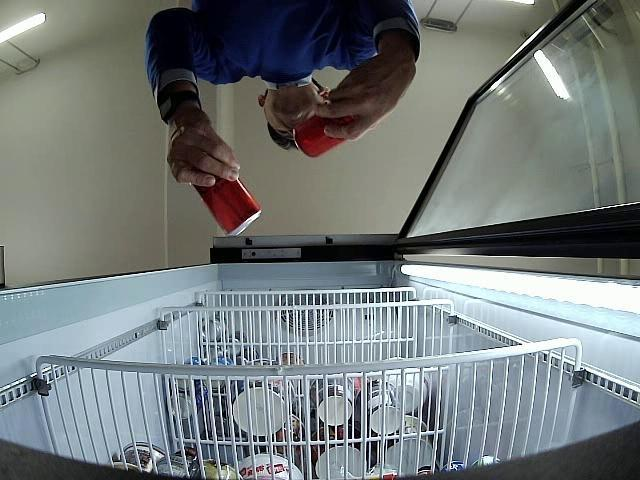11_cocaColaZero: (191, 177, 262, 238), (289, 107, 356, 158)
